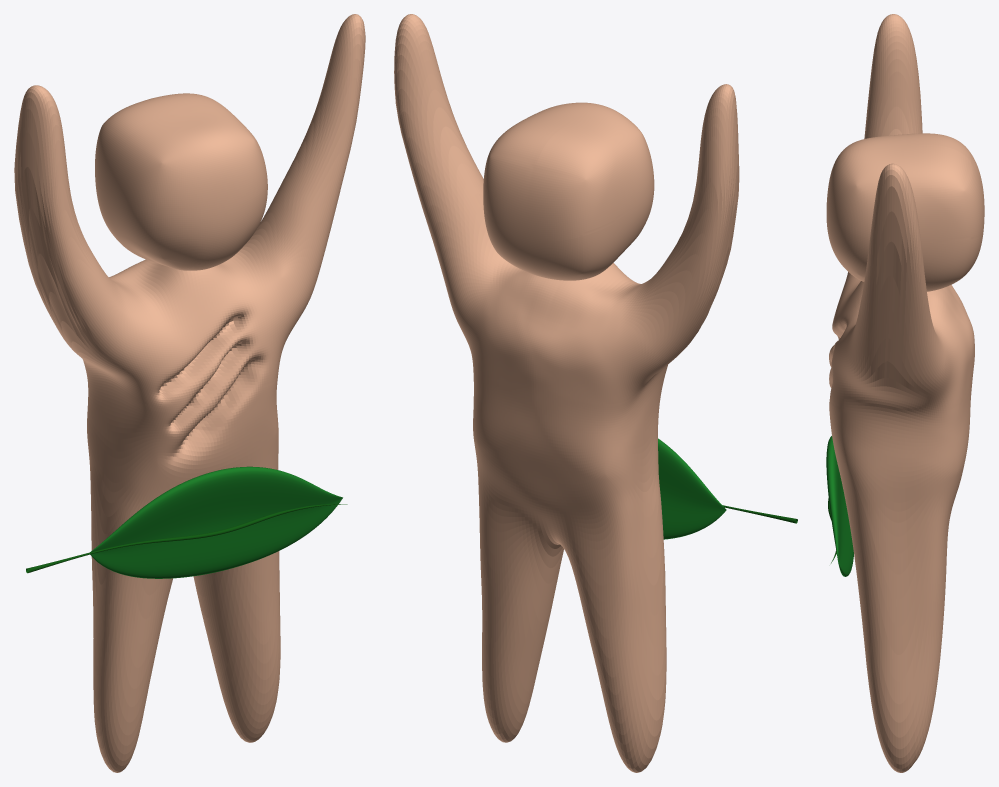
The model's file is Dead People.fbx.
The picture shows the model from 3 angles, left to right: view 1: azimuth 30°, elevation 25°; view 2: azimuth 150°, elevation 25°; view 3: azimuth 270°, elevation 25°; orthographic projection. The views are drawn at different scales.
Parts seen in each view (by area): view 1: Quad Sphere.001, Quad Sphere, NurbsPath, NurbsPath.001; view 2: Quad Sphere.001, Quad Sphere, NurbsPath; view 3: Quad Sphere.001, Quad Sphere, NurbsPath.
Part boxes in pixels (box(x1,y1,x2,y2)): Quad Sphere.001: box(14, 14, 365, 772); Quad Sphere: box(95, 93, 267, 270); NurbsPath: box(90, 466, 342, 578); NurbsPath.001: box(26, 504, 347, 573); Quad Sphere.001: box(394, 14, 739, 772); Quad Sphere: box(483, 102, 654, 280); NurbsPath: box(658, 438, 726, 539); Quad Sphere.001: box(829, 14, 974, 772); Quad Sphere: box(826, 133, 984, 291); NurbsPath: box(826, 436, 853, 576).
Size of the model in its own units: 406 by 749 by 163.
